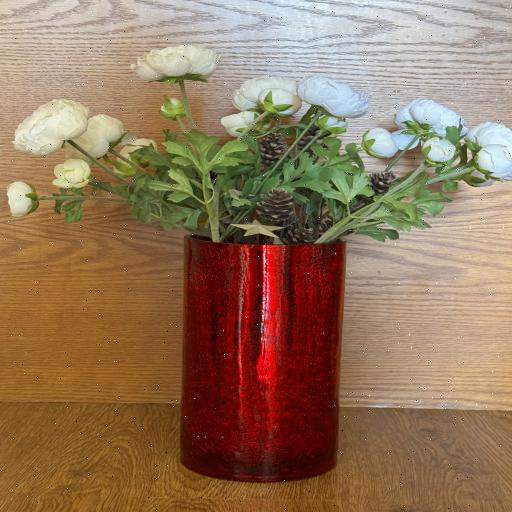Plant Pot: (180, 216, 348, 484)
